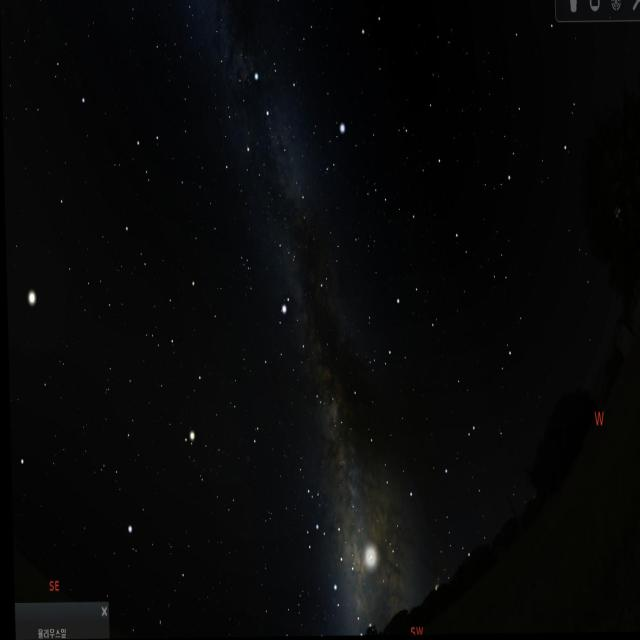aquila: (260, 292, 333, 426)
cygnus: (241, 60, 310, 236)
lyra: (314, 115, 349, 193)
moon: (352, 528, 377, 580)
sagittarius: (302, 495, 360, 622)
